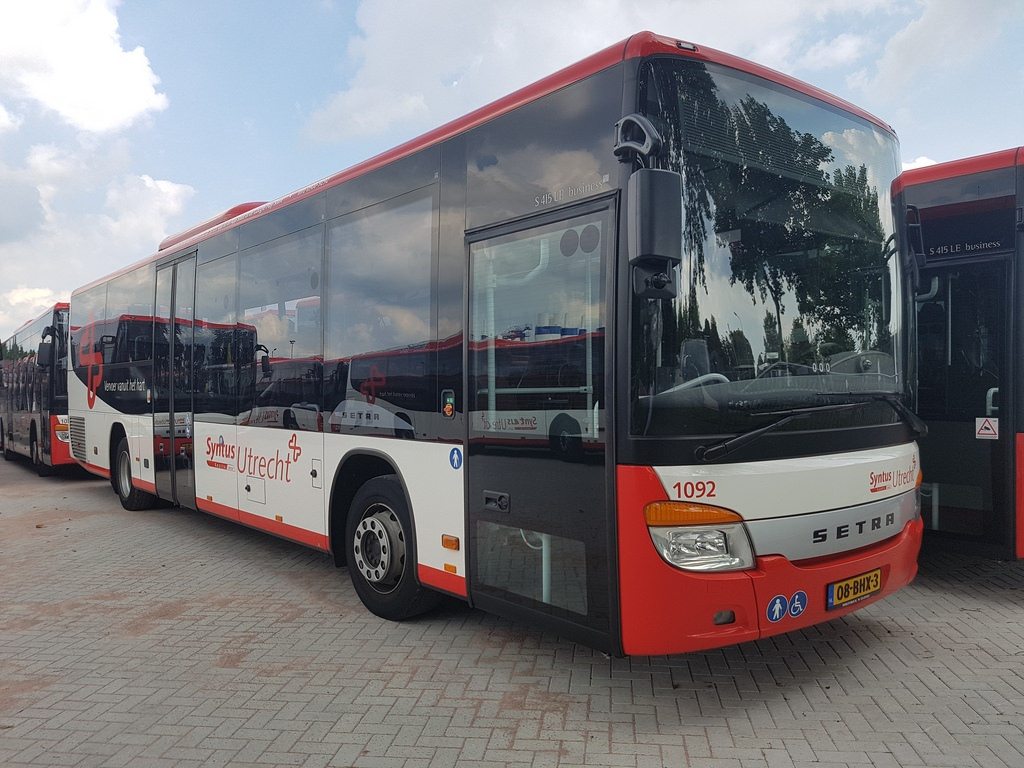bus: (65, 49, 929, 659)
